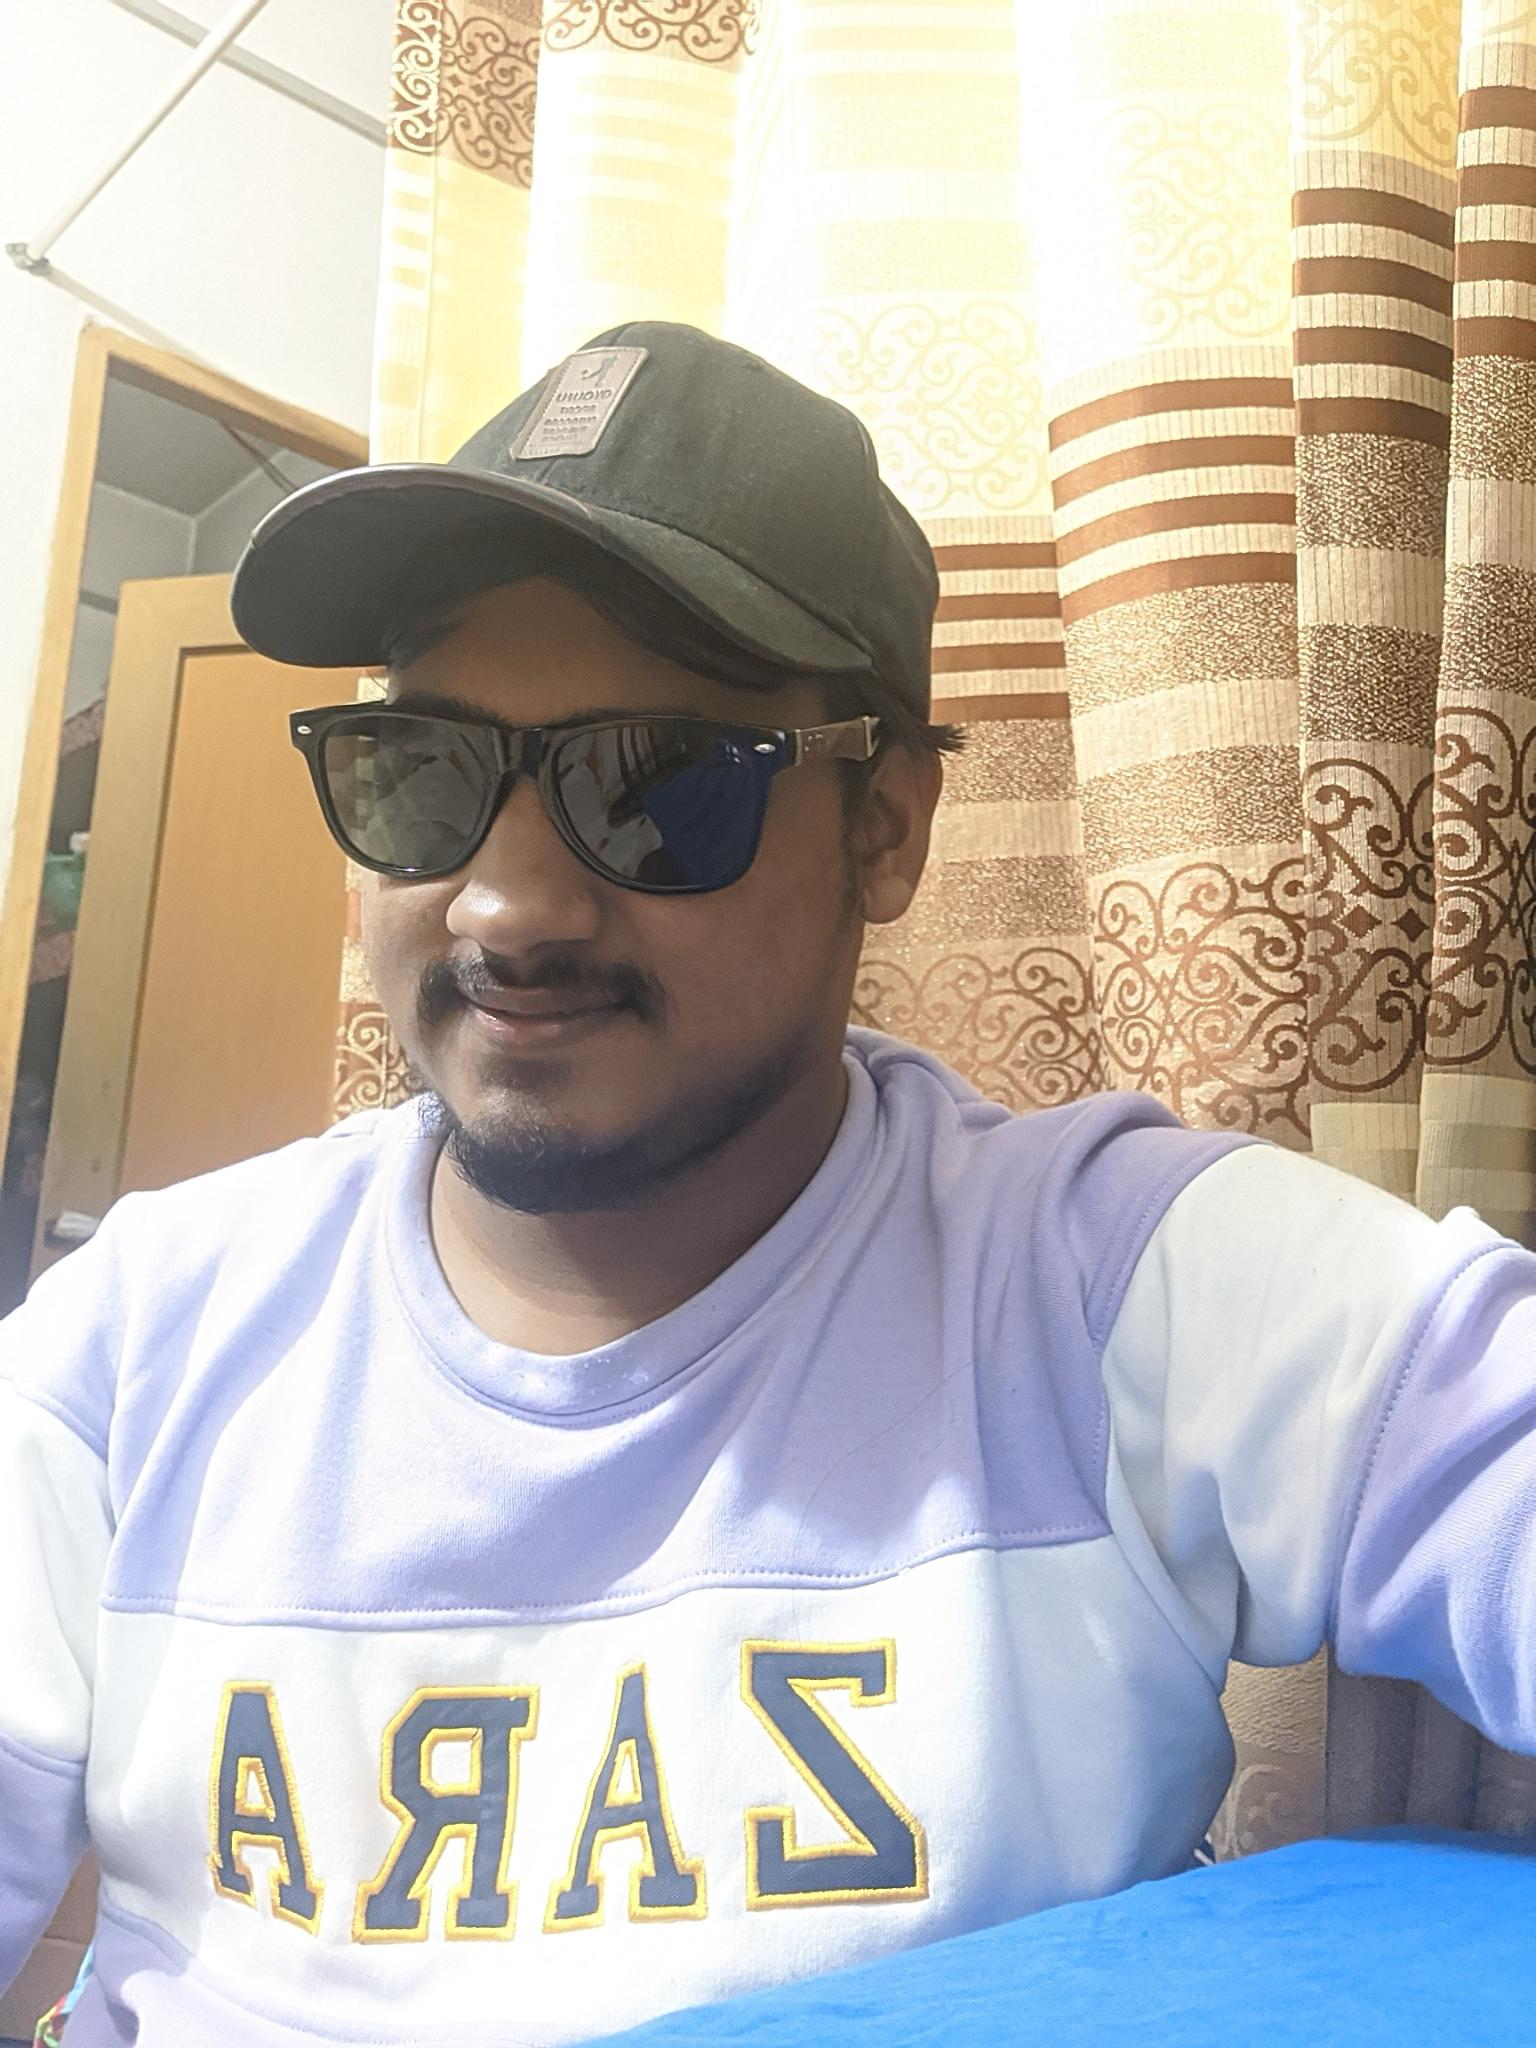Happy: (316, 672, 763, 1180)
